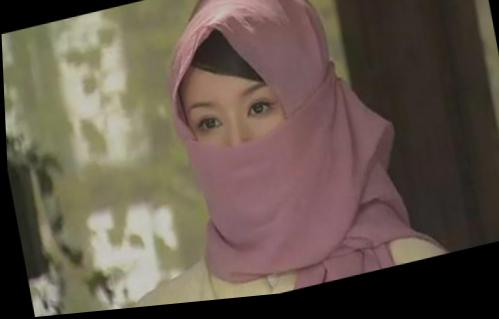WRONG: (177, 65, 310, 230)
